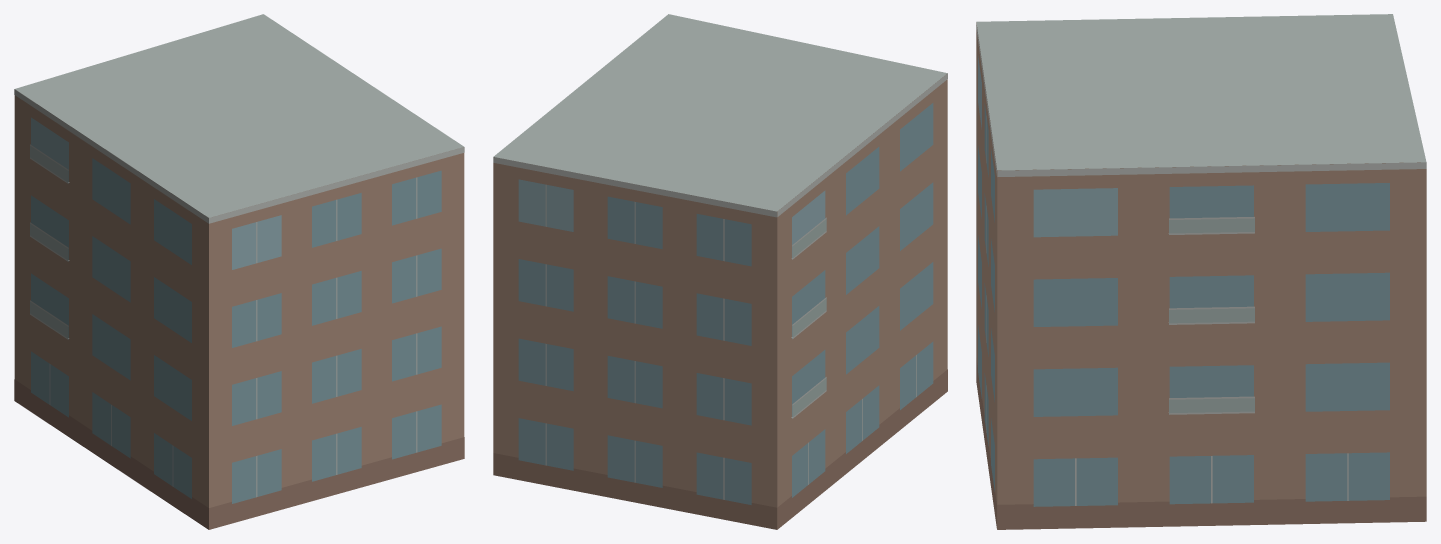
The model's file is survey-upis-32891674.glb.
3 views of the same model, side by side, from view 1: azimuth 30°, elevation 25°; view 2: azimuth 150°, elevation 25°; view 3: azimuth 270°, elevation 25° (orthographic). The views are drawn at different scales.
Parts seen in each view (by area): view 1: survey-upis-32891674.tmp; view 2: survey-upis-32891674.tmp; view 3: survey-upis-32891674.tmp.
Part boxes in pixels (left/top/right/bottom): survey-upis-32891674.tmp: left=14, top=14, right=464, bottom=529; survey-upis-32891674.tmp: left=493, top=14, right=947, bottom=529; survey-upis-32891674.tmp: left=976, top=14, right=1426, bottom=529.
Size of the model in its own units: 12.24 by 13.1 by 14.88.
